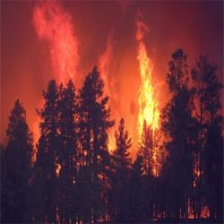fire: (111, 25, 174, 157)
